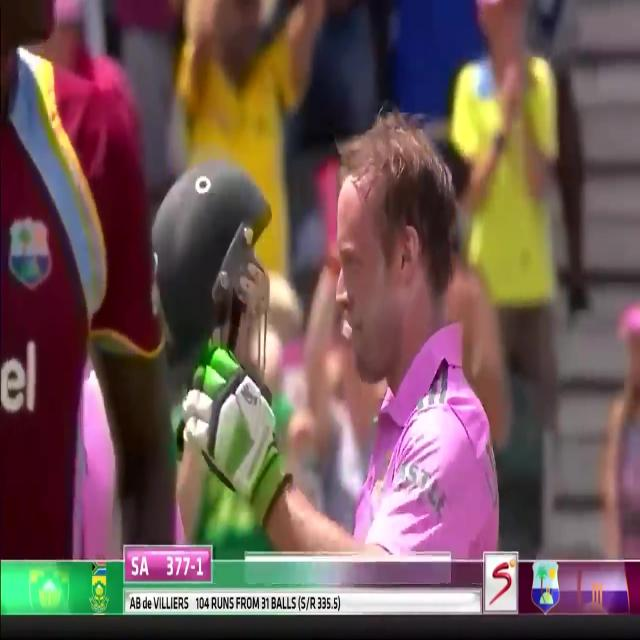Ball: (307, 49, 510, 559)
